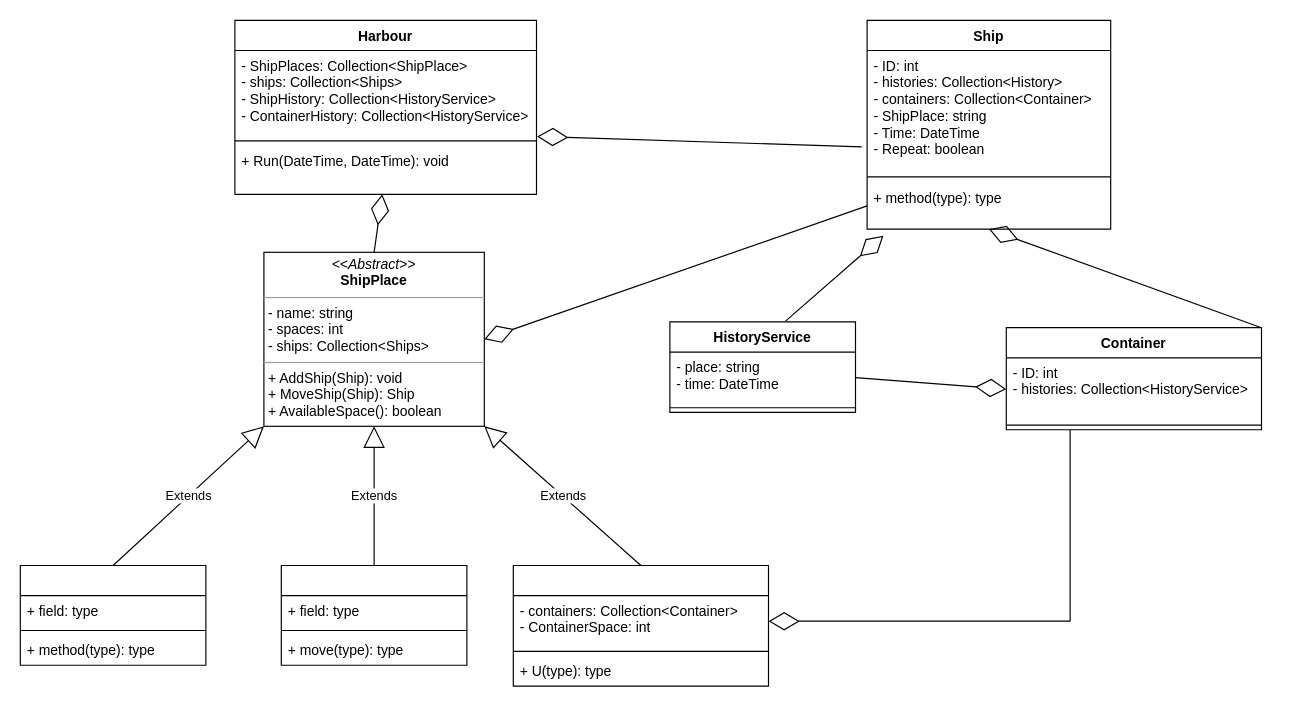
Image size: 1312x710. Some labels were removed from this diagram. The shapes that lost their labels are listed below. From the top down, each one's box as (x1, y1, x2, y2) in pixels, then its label:
(19, 564, 206, 665): DockSpace
(280, 564, 467, 665): Anchorage
(512, 564, 768, 686): UnloadingSpace
